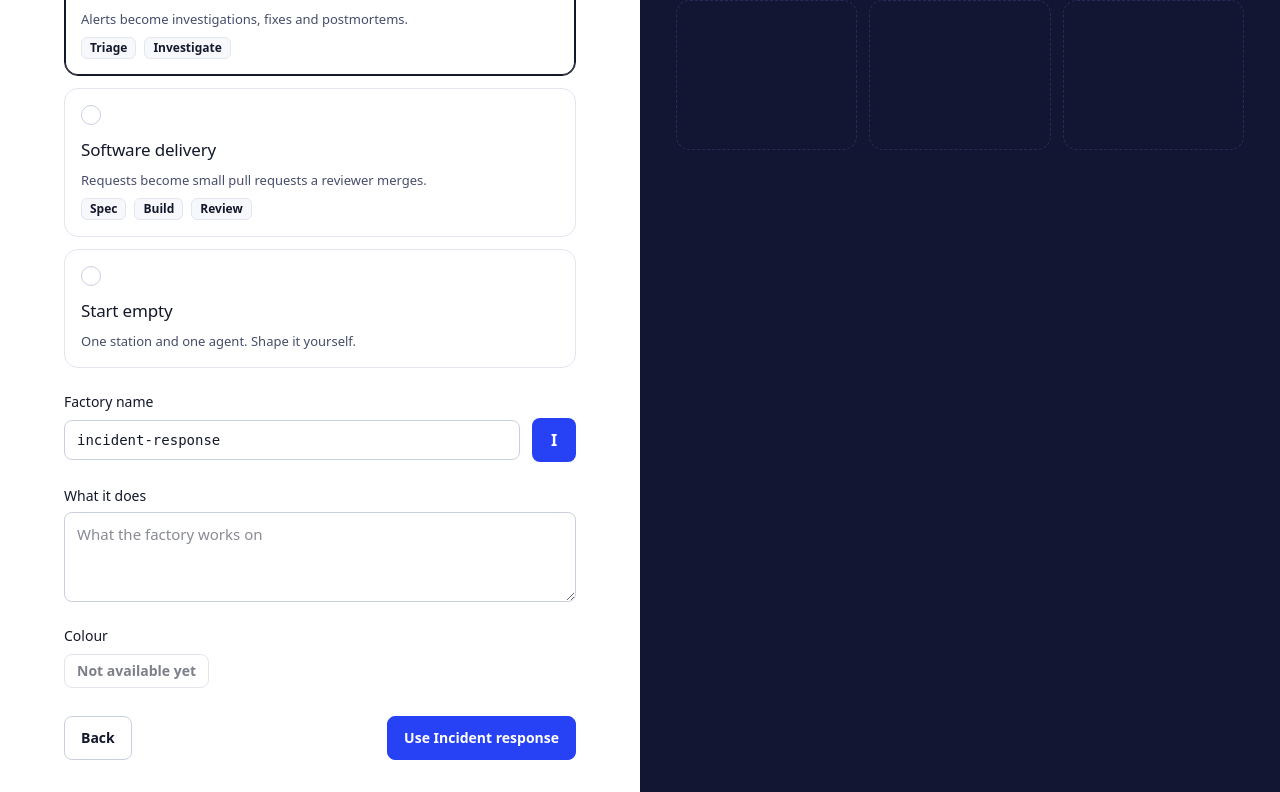
Test: step 3, pick a template › says the name is taken on the name field, which takes focus
The width and height of the screenshot is (1280, 792).
(page scrolled)
Click the button "Use Incident response". click: (482, 738)
box: [387,716,576,760]
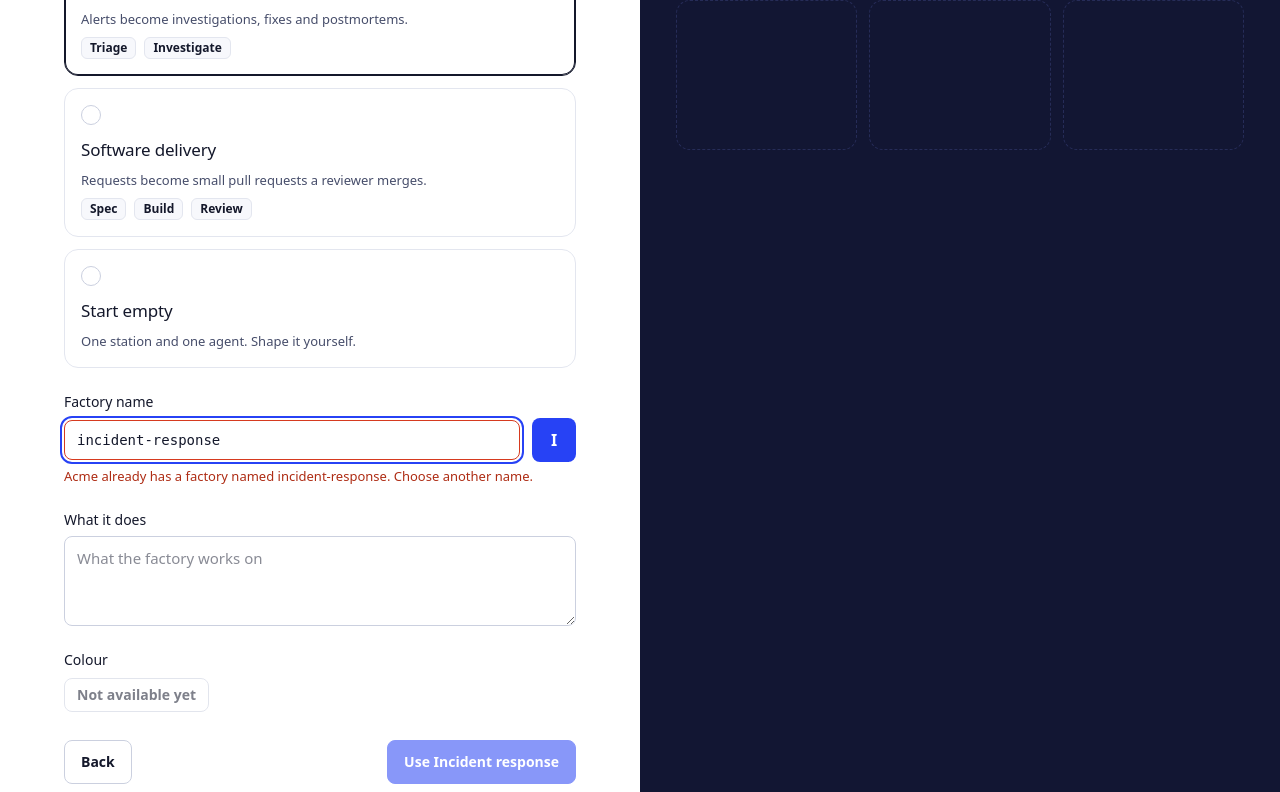
Check: the text "Acme already has a factory named incident-response. Choose another name." is shown, box [64,468,576,486]
